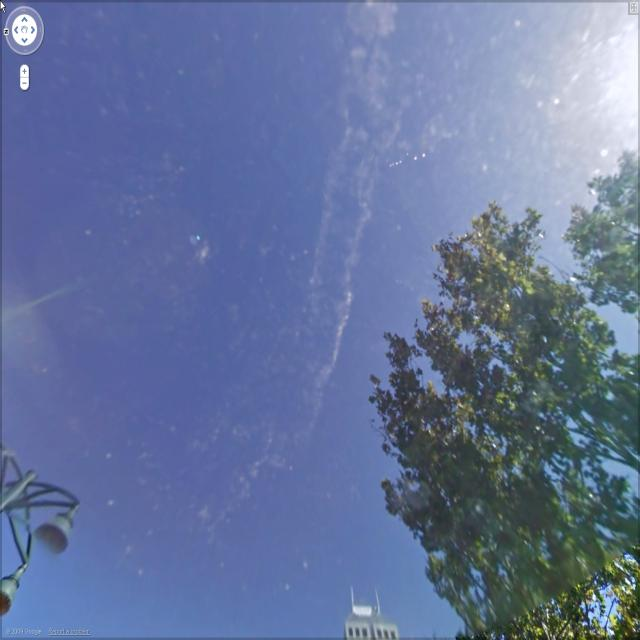b_2: (332, 579, 403, 640)
